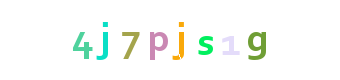1: (165, 0, 245, 80)
4: (60, 0, 140, 80)
7: (106, 0, 186, 80)
G: (218, 0, 298, 80)
J: (64, 0, 144, 80), (130, 0, 210, 80)
P: (121, 0, 201, 80)
S: (140, 0, 220, 80)
